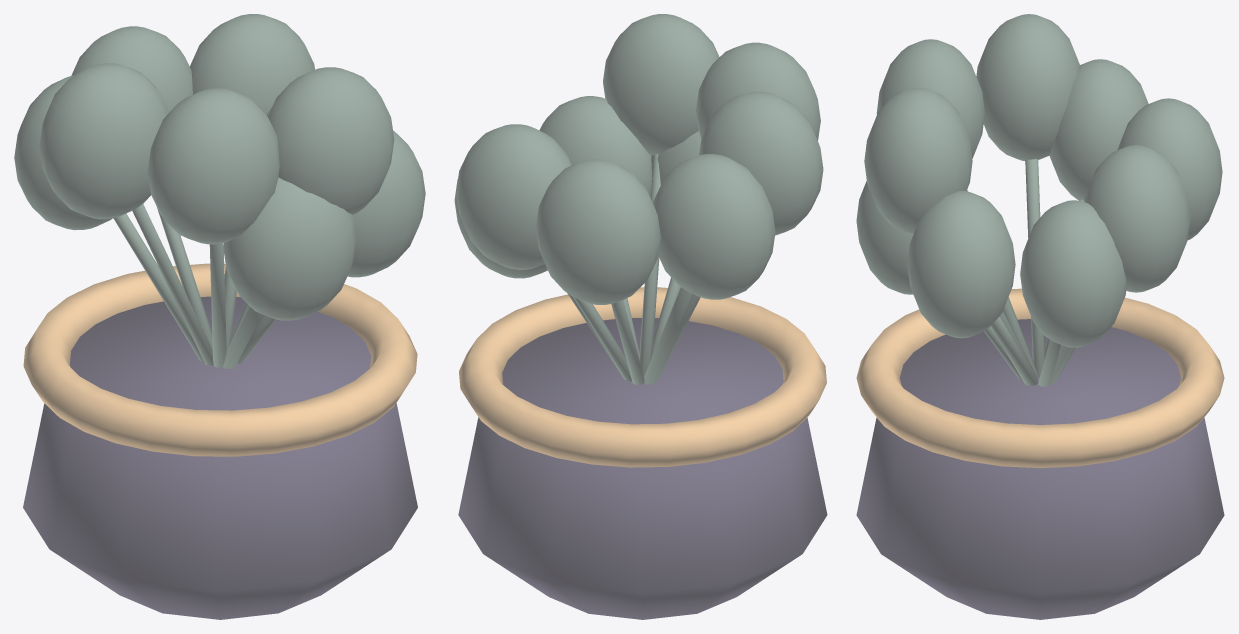
The model's file is castle_detail_planter_cursed.glb.
3 renders of one model, left to right at view 1: azimuth 30°, elevation 25°; view 2: azimuth 150°, elevation 25°; view 3: azimuth 270°, elevation 25°, orthographic. The views are drawn at different scales.
Parts seen in each view (by area): view 1: castle_detail_planter_cursed_surface; view 2: castle_detail_planter_cursed_surface; view 3: castle_detail_planter_cursed_surface.
Boxes of the visible parts, box(x1,y1,x2,y2) form: castle_detail_planter_cursed_surface: box(14, 14, 425, 619); castle_detail_planter_cursed_surface: box(454, 14, 827, 619); castle_detail_planter_cursed_surface: box(856, 14, 1224, 619).
Bounding box in the file's own units: 1.78 × 2.55 × 1.7.
